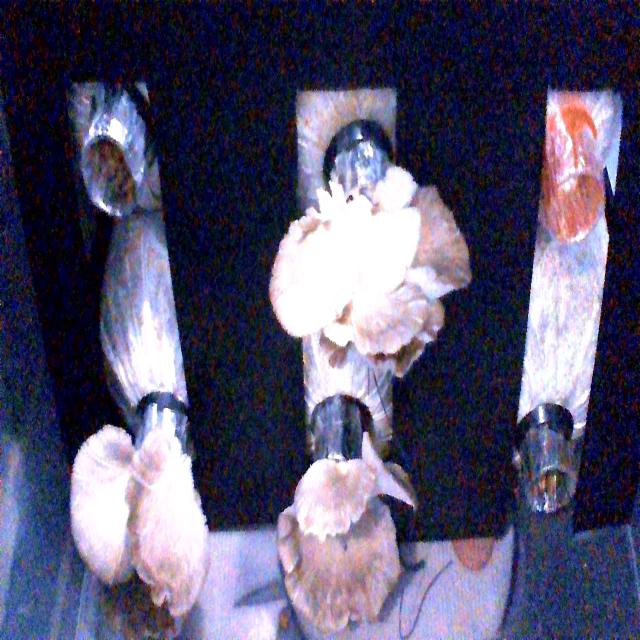big: (284, 156, 466, 377), (280, 414, 433, 639), (67, 394, 200, 625)
nfound: (78, 123, 150, 244), (542, 153, 617, 241), (528, 436, 576, 508)
